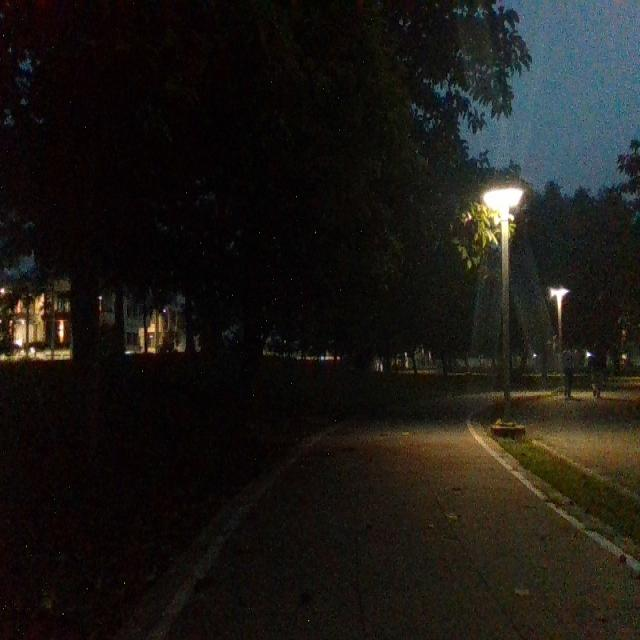lane: (164, 392, 639, 639)
